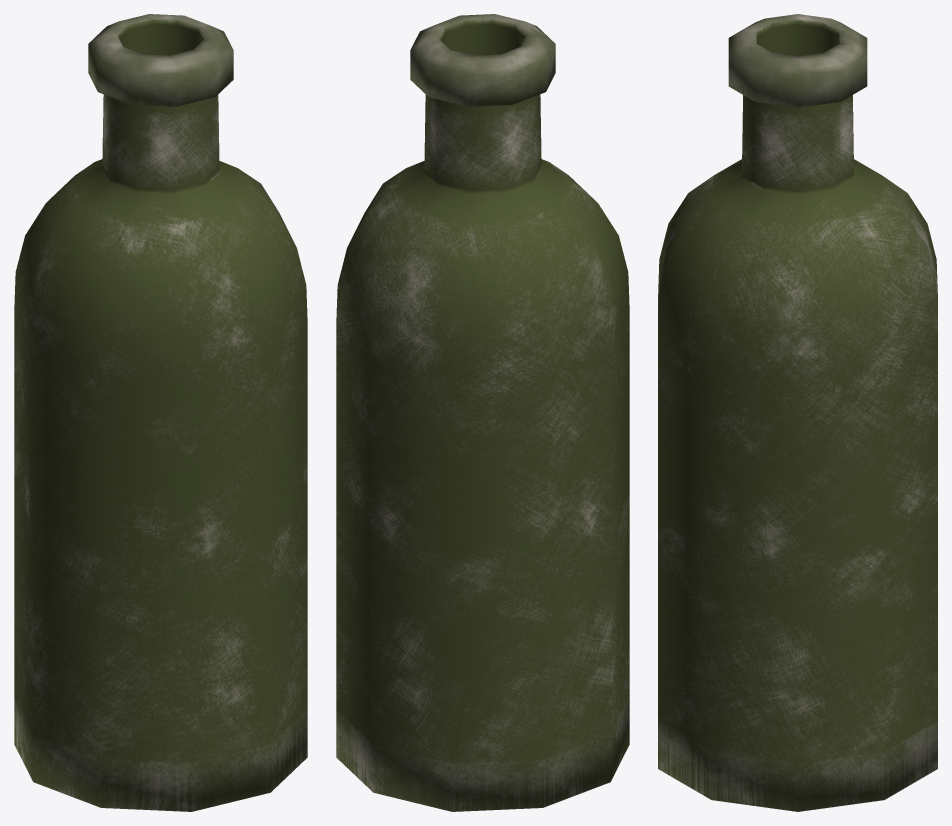
File: Bottle_v001.fbx
3 views of the same model, side by side, from view 1: azimuth 30°, elevation 25°; view 2: azimuth 150°, elevation 25°; view 3: azimuth 270°, elevation 25° (orthographic).
Visible parts, largest first — view 1: Bottle; view 2: Bottle; view 3: Bottle.
Boxes of the visible parts, bbox=[...] form: Bottle: bbox=[14, 14, 307, 811]; Bottle: bbox=[336, 14, 629, 811]; Bottle: bbox=[658, 14, 937, 811].
Size of the model in its own units: 11.31 by 30.17 by 10.75.
